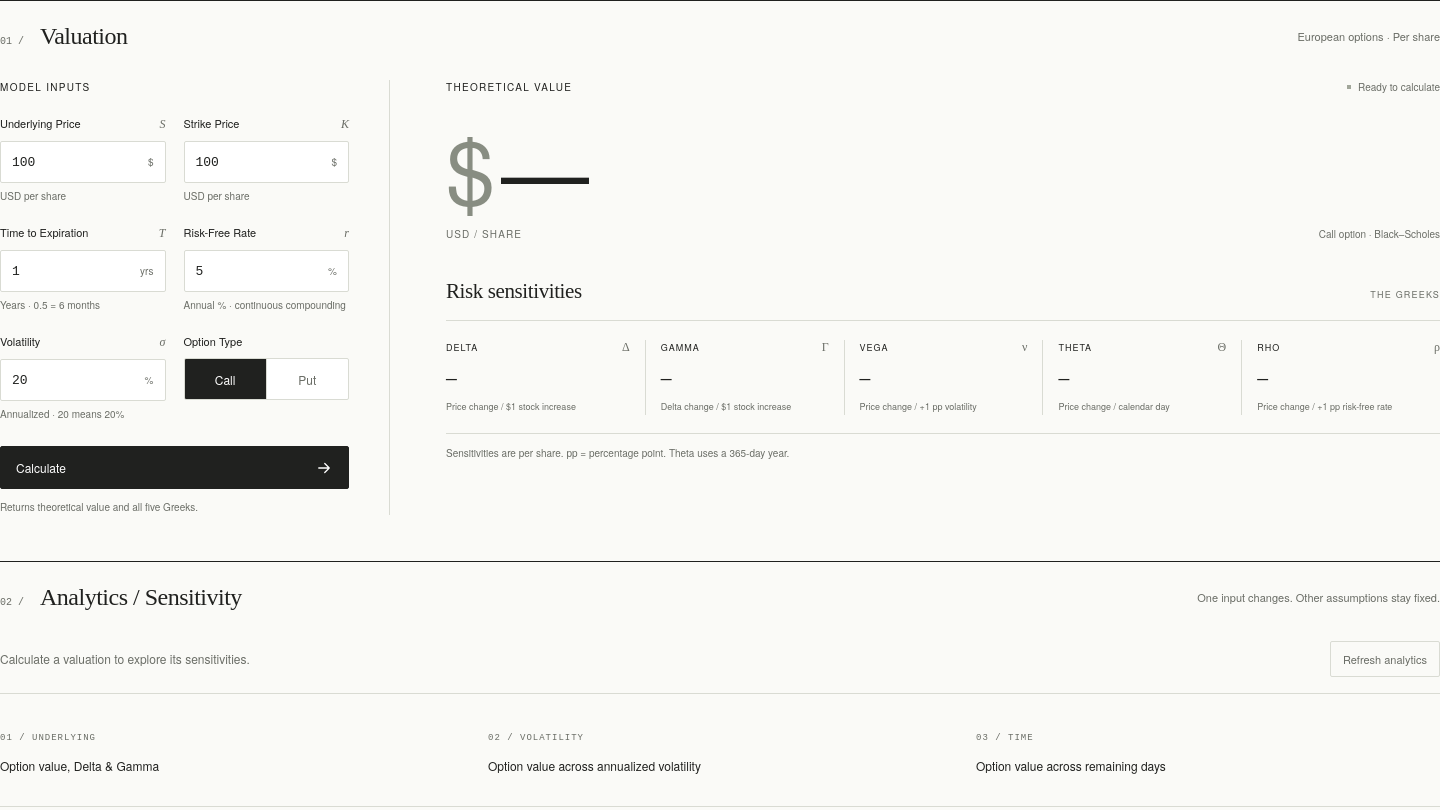
Scenario: sensitivity form integration › cancels and ignores stale sensitivity data when a base input changes
Step 1. Click the button "Calculate" → (41, 468), box [0,446,349,489]
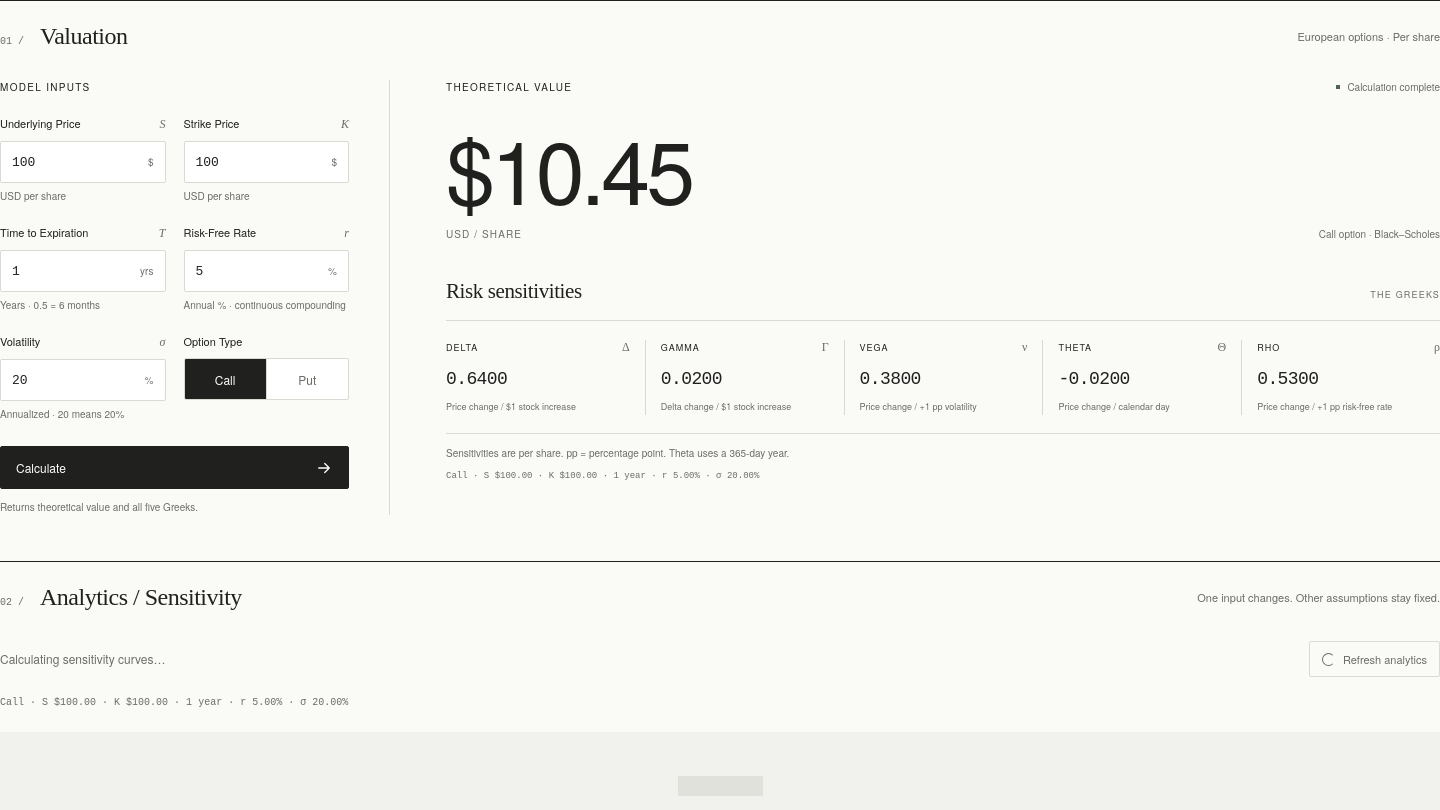
expect the text "Calculation complete" is shown: met, box [1336,80,1439,94]
Step 2. Clear the number field labelled "Underlying Price S" → (83, 162), box [1,142,164,182]
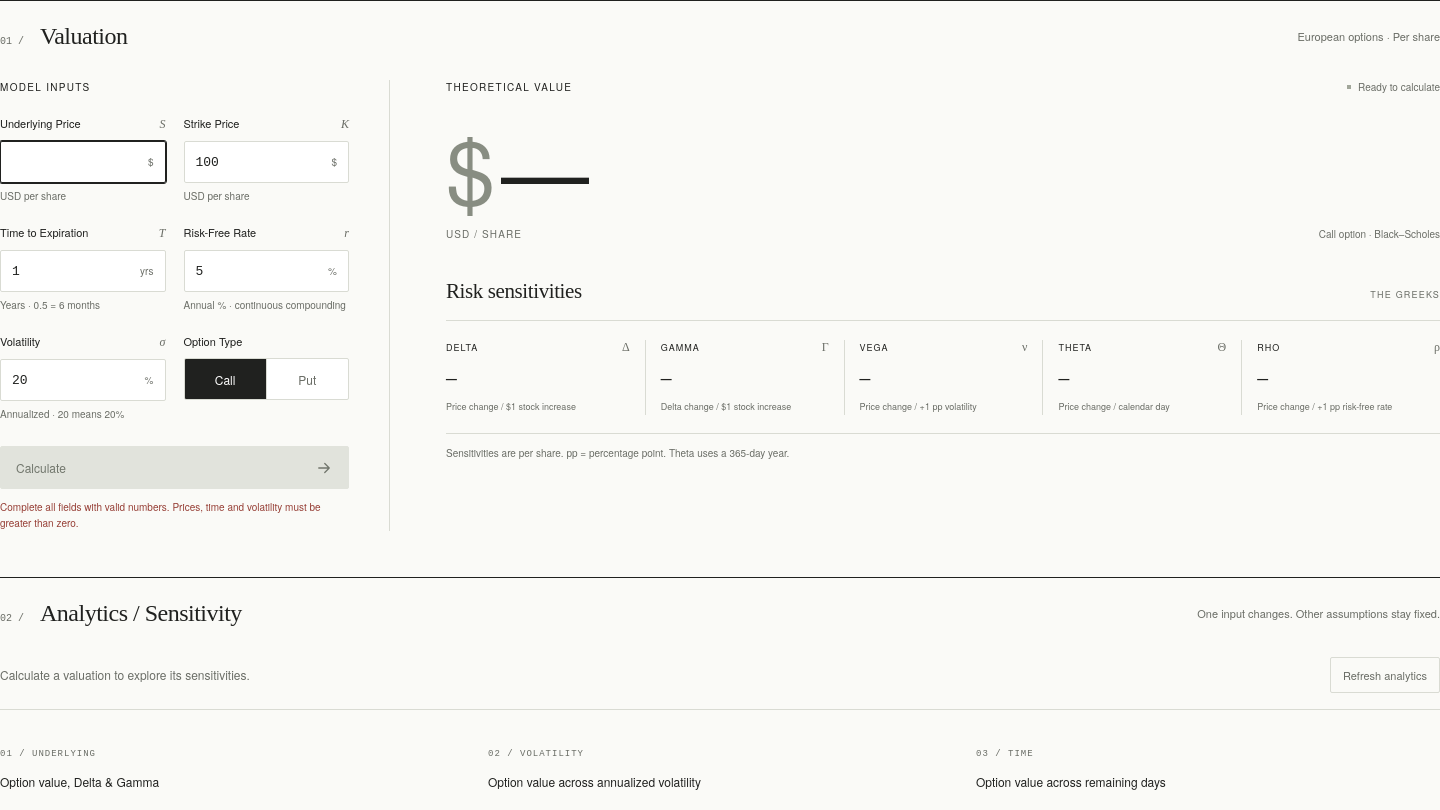
expect the button "Refresh analytics" is disabled: met, box [1330,657,1439,693]
expect the message "Calculate a valuation to explore its sensitivities." is shown: met, box [0,665,250,685]
